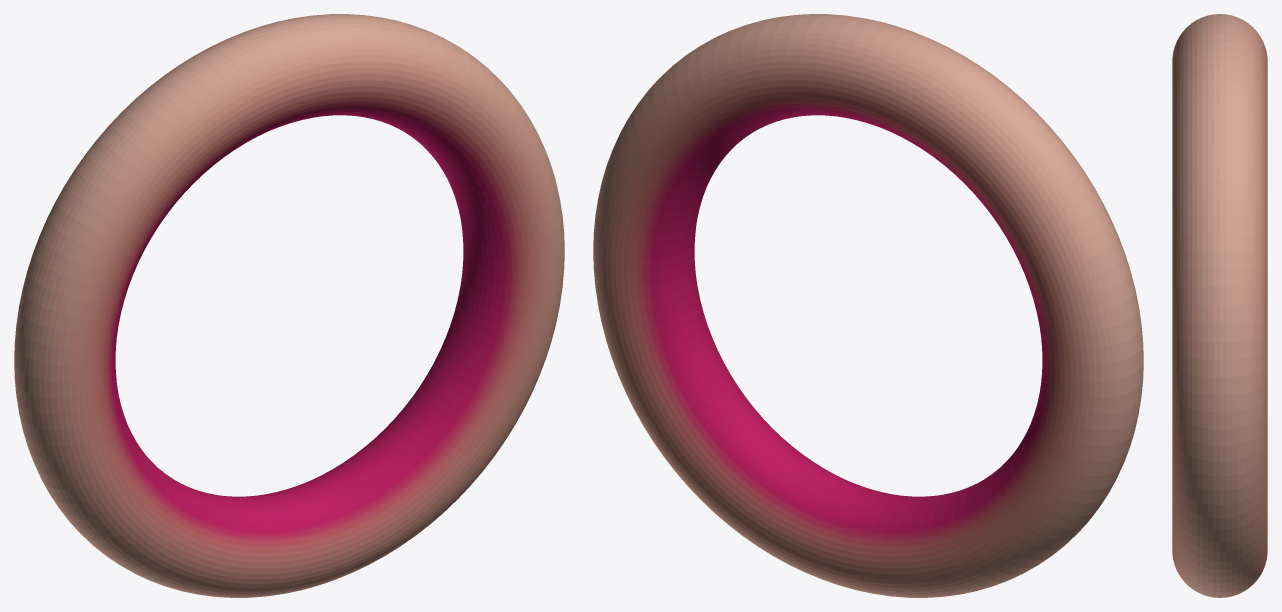
The picture shows the model from 3 angles, left to right: view 1: azimuth 30°, elevation 25°; view 2: azimuth 150°, elevation 25°; view 3: azimuth 270°, elevation 25°; orthographic projection. The views are drawn at different scales.
Parts seen in each view (by area): view 1: world; view 2: world; view 3: world.
Part boxes in pixels (left/top/right/bottom): world: left=14, top=14, right=564, bottom=597; world: left=593, top=14, right=1143, bottom=597; world: left=1172, top=14, right=1267, bottom=597.
Bounding box in the file's own units: 35.07 × 35.07 × 5.72.
